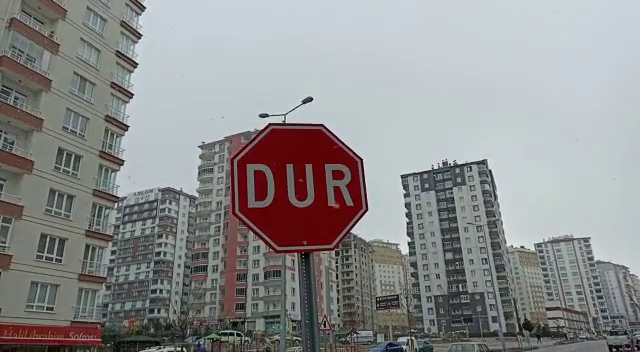stop: (227, 119, 374, 257)
